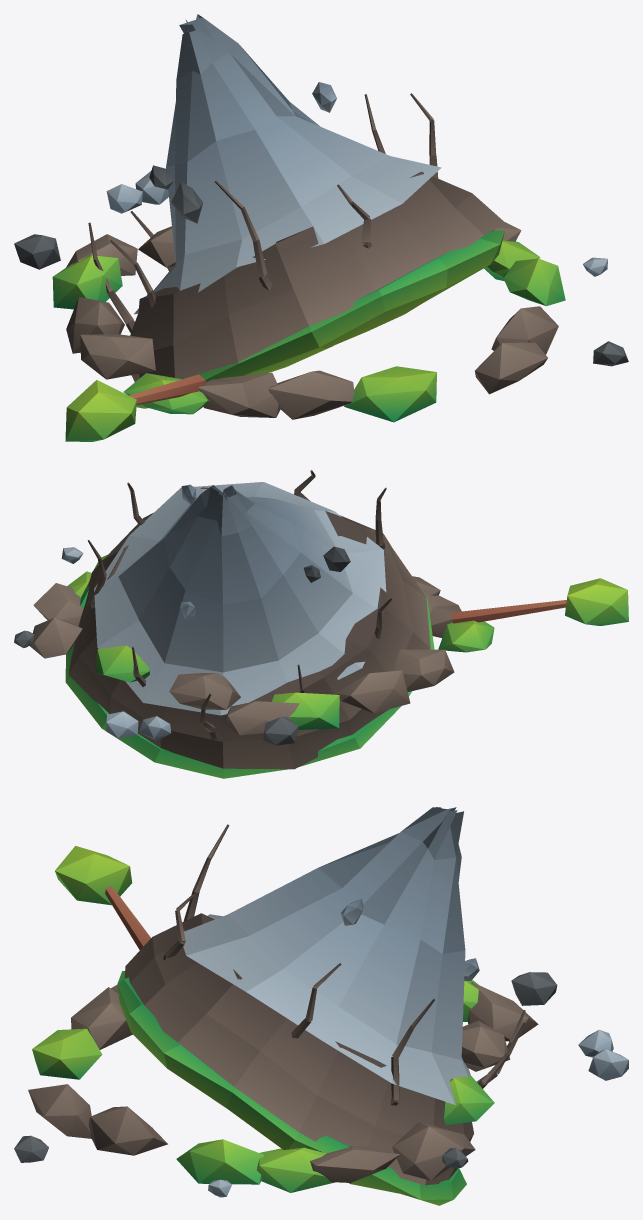
File: fallen_isle.glb
3 renders of one model, top to bottom at view 1: azimuth 30°, elevation 25°; view 2: azimuth 150°, elevation 25°; view 3: azimuth 270°, elevation 25°, orthographic. The views are drawn at different scales.
Visible parts, largest first — view 1: fallen_isle; view 2: fallen_isle; view 3: fallen_isle.
Boxes of the visible parts, box(x1,y1,x2,y2) form: fallen_isle: box(14, 14, 628, 441); fallen_isle: box(14, 470, 628, 778); fallen_isle: box(14, 807, 628, 1205).
Size of the model in its own units: 18.06 by 9.89 by 15.62.
1 material, 1 textured.
